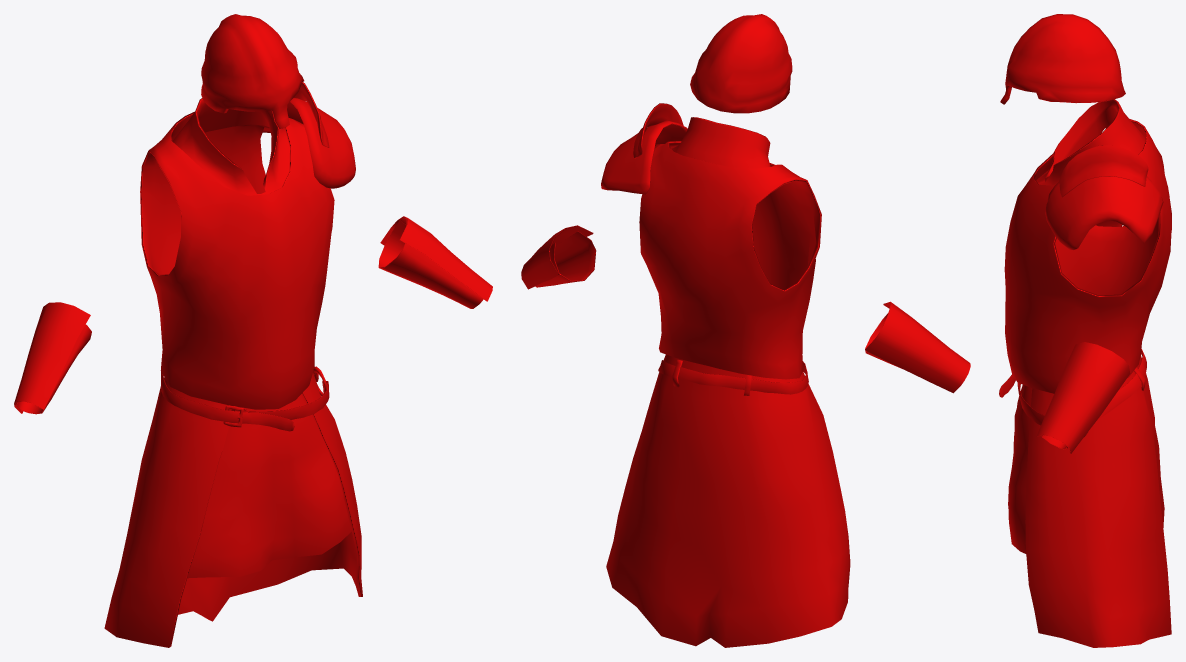
The model's file is Armor.fbx.
3 views of the same model, side by side, from view 1: azimuth 30°, elevation 25°; view 2: azimuth 150°, elevation 25°; view 3: azimuth 270°, elevation 25° (orthographic). The views are drawn at different scales.
Parts seen in each view (by area): view 1: armor14, armor20, armor18, armor30, armor16, armor2, armor10, armor6, armor4, armor26, armor8, armor24; view 2: armor20, armor14, armor30, armor2, armor16, armor10, armor6, armor26, armor4, armor12; view 3: armor20, armor14, armor30, armor10, armor4, armor16, armor12, armor18, armor26, armor24.
Boxes of the visible parts, box(x1,y1,x2,y2) form: armor14: box(140, 112, 334, 409); armor20: box(104, 372, 362, 647); armor18: box(187, 394, 351, 578); armor30: box(201, 14, 304, 129); armor16: box(172, 98, 289, 195); armor2: box(14, 302, 90, 413); armor10: box(262, 98, 355, 188); armor6: box(378, 220, 483, 308); armor4: box(380, 216, 492, 301); armor26: box(161, 366, 318, 431); armor8: box(16, 324, 91, 414); armor24: box(228, 381, 329, 419); armor20: box(606, 354, 850, 647); armor14: box(639, 141, 821, 379); armor30: box(690, 14, 792, 113); armor2: box(865, 301, 970, 393); armor16: box(671, 117, 770, 168); armor10: box(601, 120, 687, 194); armor6: box(535, 231, 596, 287); armor26: box(658, 360, 808, 394); armor4: box(521, 225, 593, 289); armor12: box(633, 103, 683, 158); armor20: box(1025, 355, 1171, 647); armor14: box(1004, 119, 1171, 393); armor30: box(1000, 14, 1125, 104); armor10: box(1045, 176, 1163, 249); armor4: box(1036, 342, 1130, 453); armor16: box(1036, 99, 1144, 185); armor12: box(1059, 145, 1148, 197); armor18: box(1008, 385, 1032, 553); armor26: box(999, 348, 1146, 420); armor24: box(1017, 382, 1044, 425).
Bounding box in the file's own units: 111 × 143 × 36.65.
